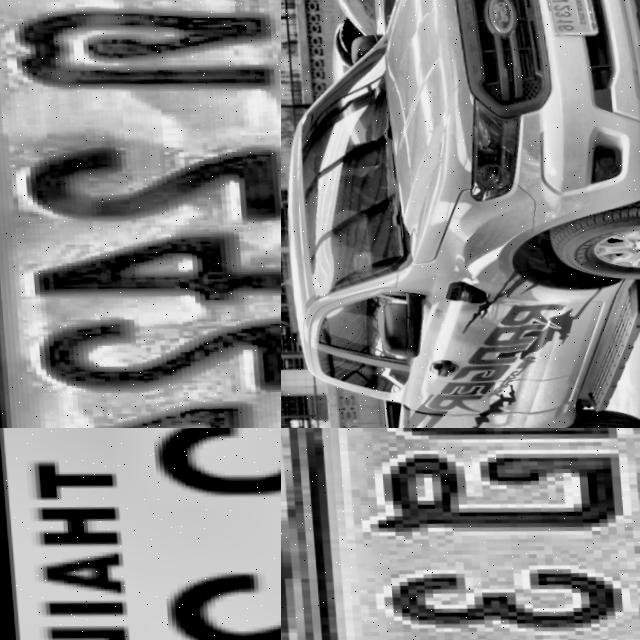license-plate: (0, 0, 281, 428), (283, 428, 640, 640), (0, 428, 281, 640), (537, 0, 602, 35)
